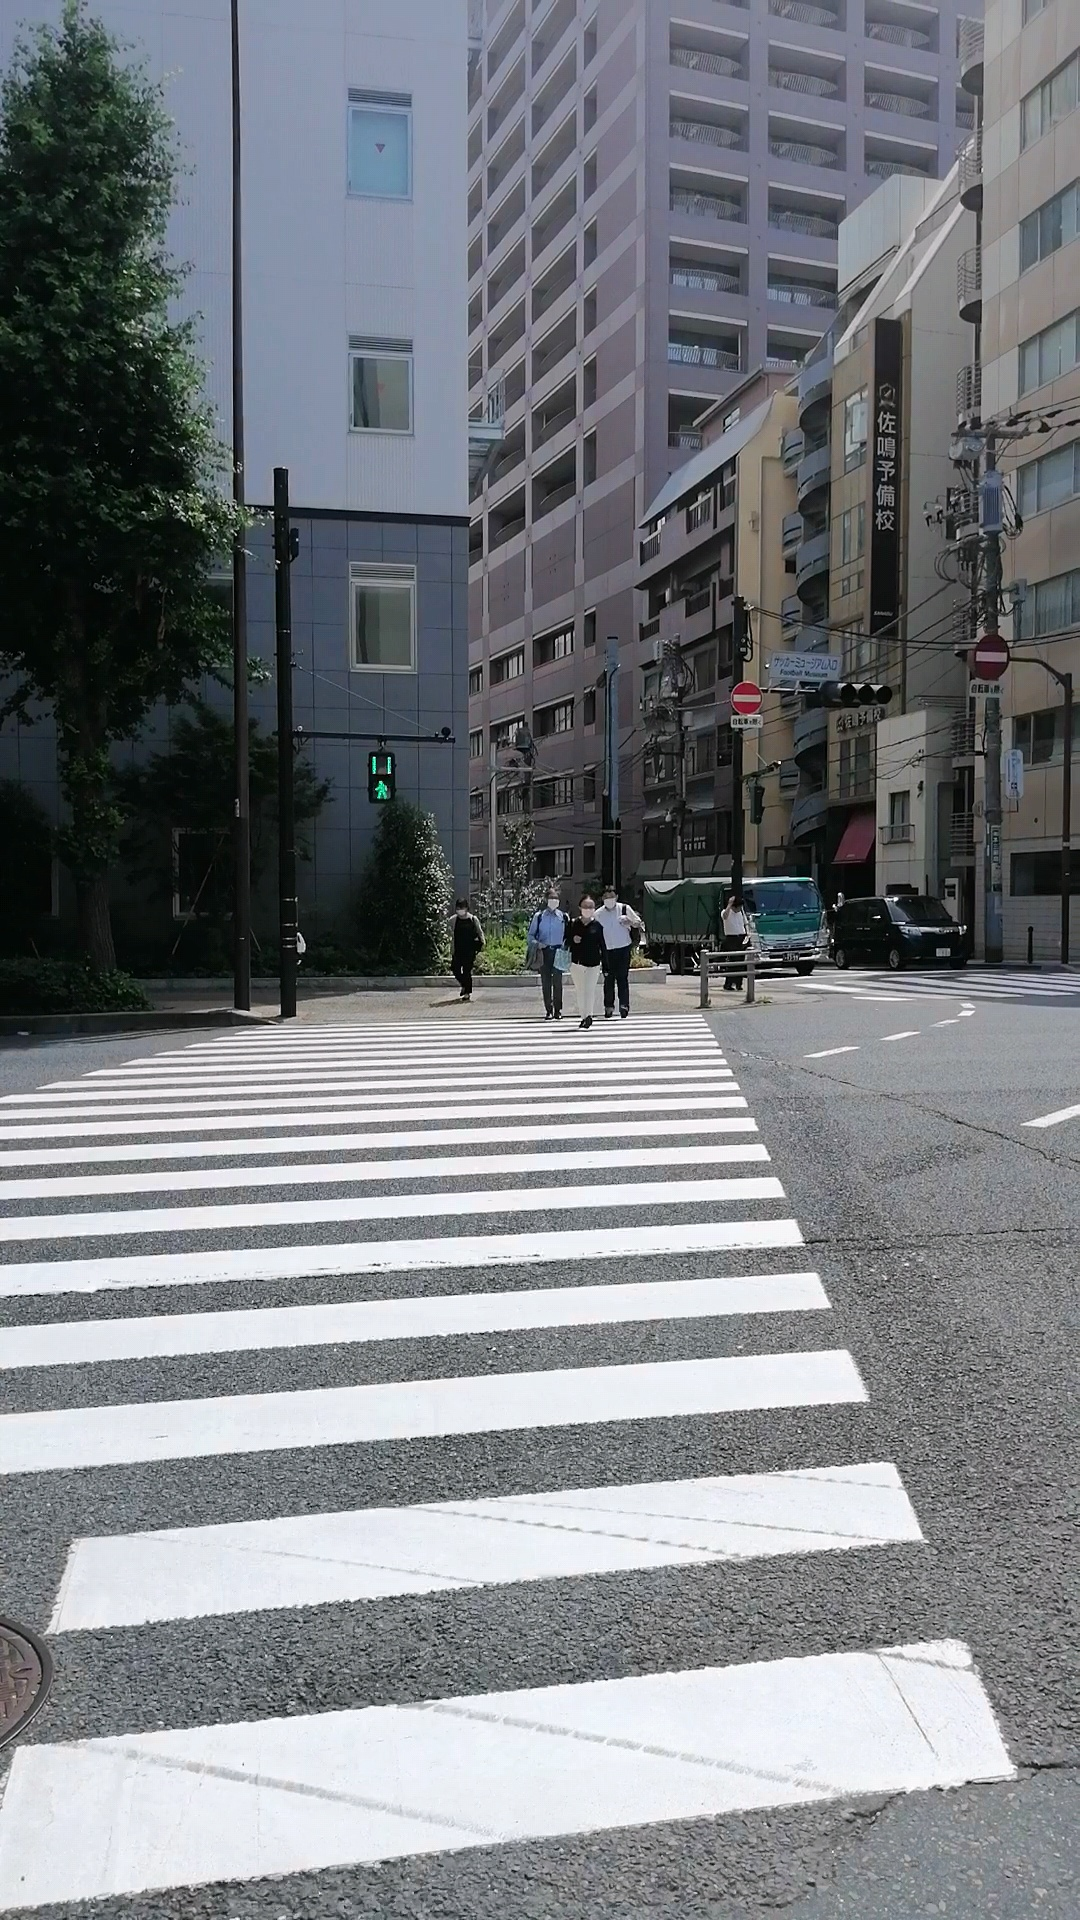green: (367, 749, 397, 803)
